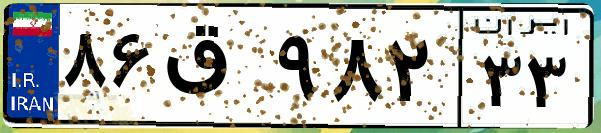2: (385, 28, 445, 110)
3: (475, 38, 525, 113), (525, 38, 570, 115)
6: (110, 28, 158, 98)
8: (330, 28, 385, 110), (57, 26, 110, 100)
9: (270, 28, 330, 110)
ق: (158, 20, 270, 120)
